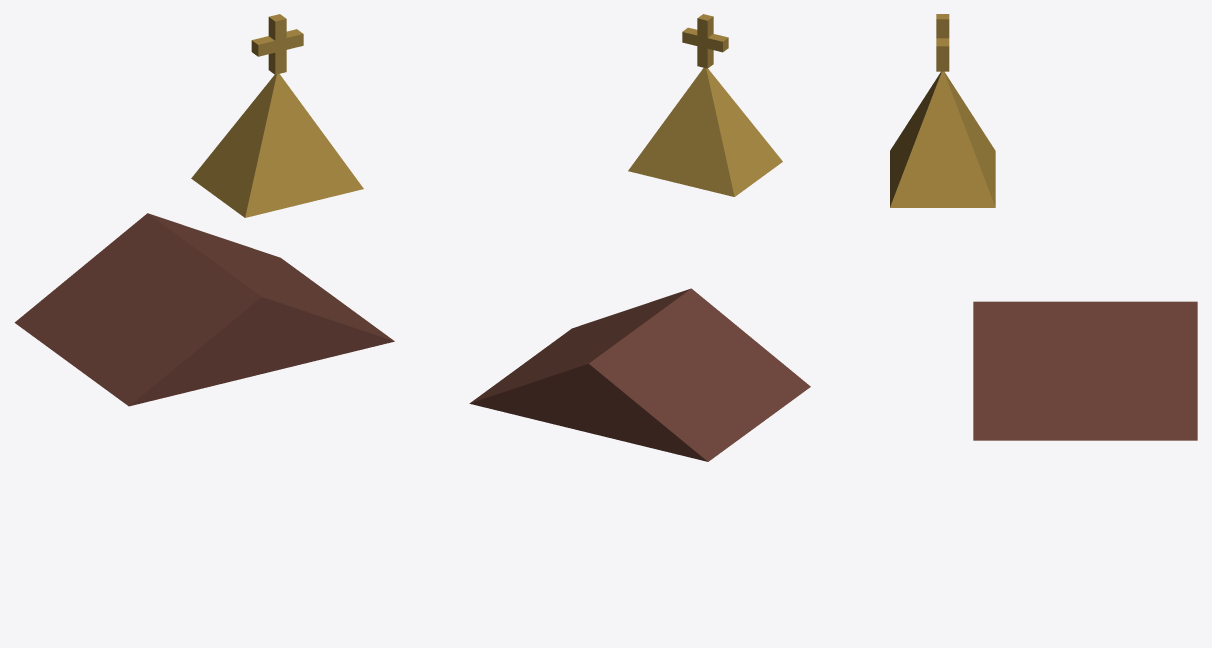
File: church_l1_lowpoly.glb
3 views of the same model, side by side, from view 1: azimuth 30°, elevation 25°; view 2: azimuth 150°, elevation 25°; view 3: azimuth 270°, elevation 25° (orthographic). The views are drawn at different scales.
Visible parts, largest first — view 1: lp_church_l1; view 2: lp_church_l1; view 3: lp_church_l1.
Part boxes in pixels (x1,y1,x2,y2): lp_church_l1: (14,14,394,406); lp_church_l1: (469,14,810,461); lp_church_l1: (890,14,1197,440).
Size of the model in its own units: 0.96 by 1.9 by 0.99.
